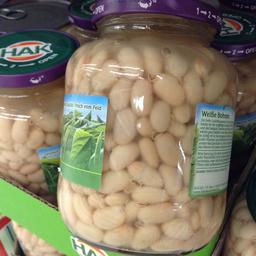beans: (62, 0, 238, 250)
